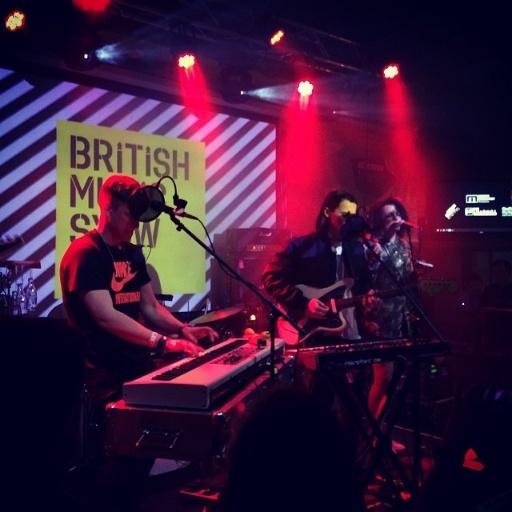hand: (166, 339, 204, 358), (184, 325, 217, 344), (363, 289, 385, 317), (303, 299, 329, 321), (366, 243, 384, 263), (414, 260, 428, 277)
